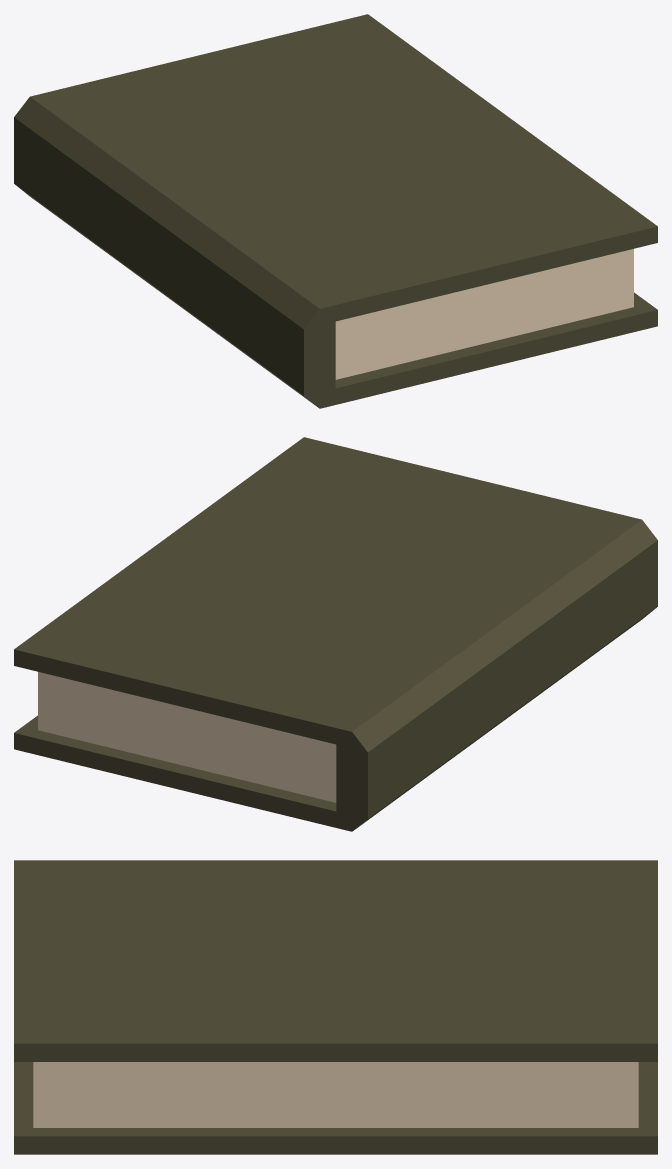
Rendered from SM_book_05.fbx.
3 views of the same model, one above another, from view 1: azimuth 30°, elevation 25°; view 2: azimuth 150°, elevation 25°; view 3: azimuth 270°, elevation 25° (orthographic). The views are drawn at different scales.
Visible parts, largest first — view 1: Box023; view 2: Box023; view 3: Box023.
Part boxes in pixels (x1,y1,x2,y2): Box023: (14, 14, 657, 408); Box023: (14, 437, 657, 831); Box023: (14, 860, 657, 1154).
Bounding box in the file's own units: 14.32 × 3.86 × 20.32.
